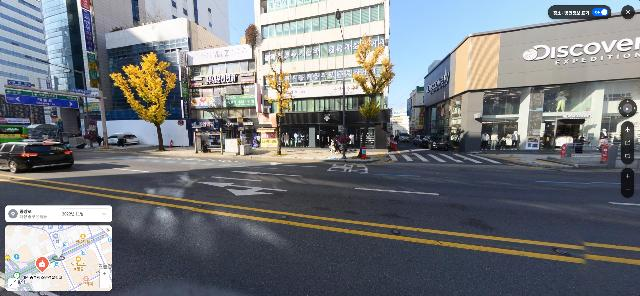ginkgo: (109, 51, 179, 152), (351, 35, 396, 159), (264, 50, 296, 155)
other: (242, 23, 259, 48)
